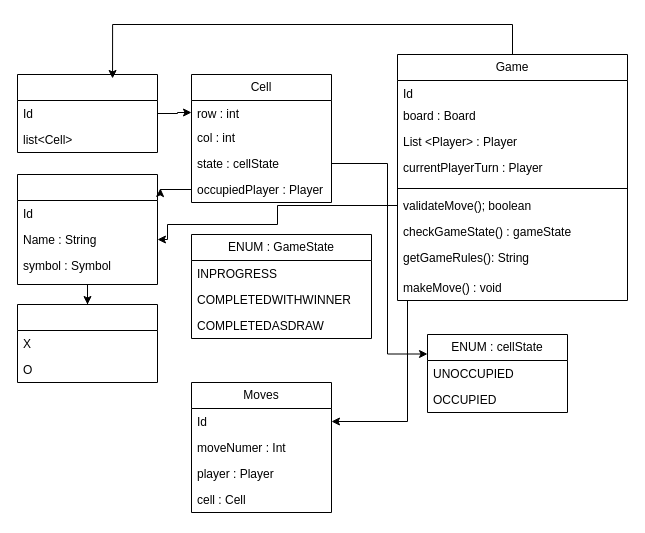
The diagram is 645 pixels wide and 533 high, and some of its shapes have lost their labels. The shapes that lost their labels are listed below. From the top down, each one's box as (x1, y1, x2, y2) in pixels, then its label:
(16, 74, 158, 152): Board
(16, 174, 158, 284): Player
(16, 304, 158, 382): ENUM : Symbol
